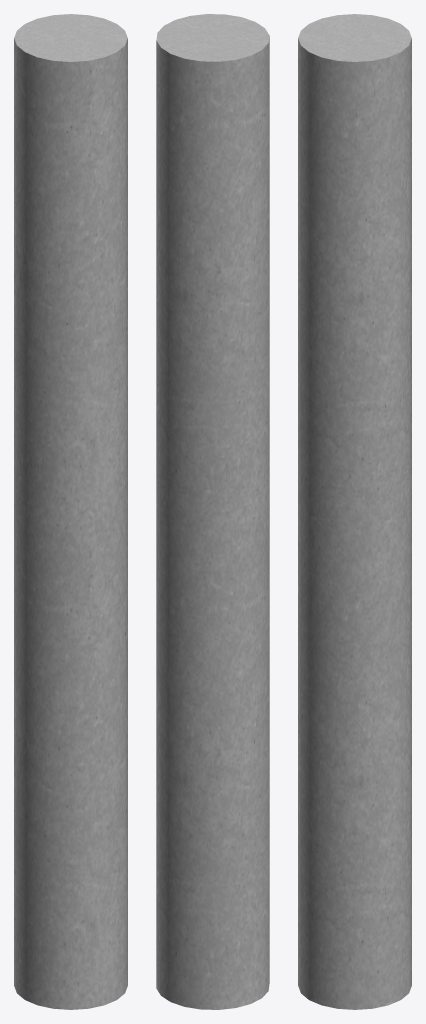
Rendered from PostCylinder.fbx.
3 renders of one model, left to right at view 1: azimuth 90°, elevation 25°; view 2: azimuth 150°, elevation 25°; view 3: azimuth 270°, elevation 25°, orthographic.
Visible parts, largest first — view 1: Safety_Training_Assets__1_:CirclePost; view 2: Safety_Training_Assets__1_:CirclePost; view 3: Safety_Training_Assets__1_:CirclePost.
Part boxes in pixels (box(x1,y1,x2,y2)): Safety_Training_Assets__1_:CirclePost: box(14, 14, 127, 1009); Safety_Training_Assets__1_:CirclePost: box(156, 14, 269, 1009); Safety_Training_Assets__1_:CirclePost: box(298, 14, 411, 1009).
Size of the model in its own units: 2 by 18.4 by 2.
